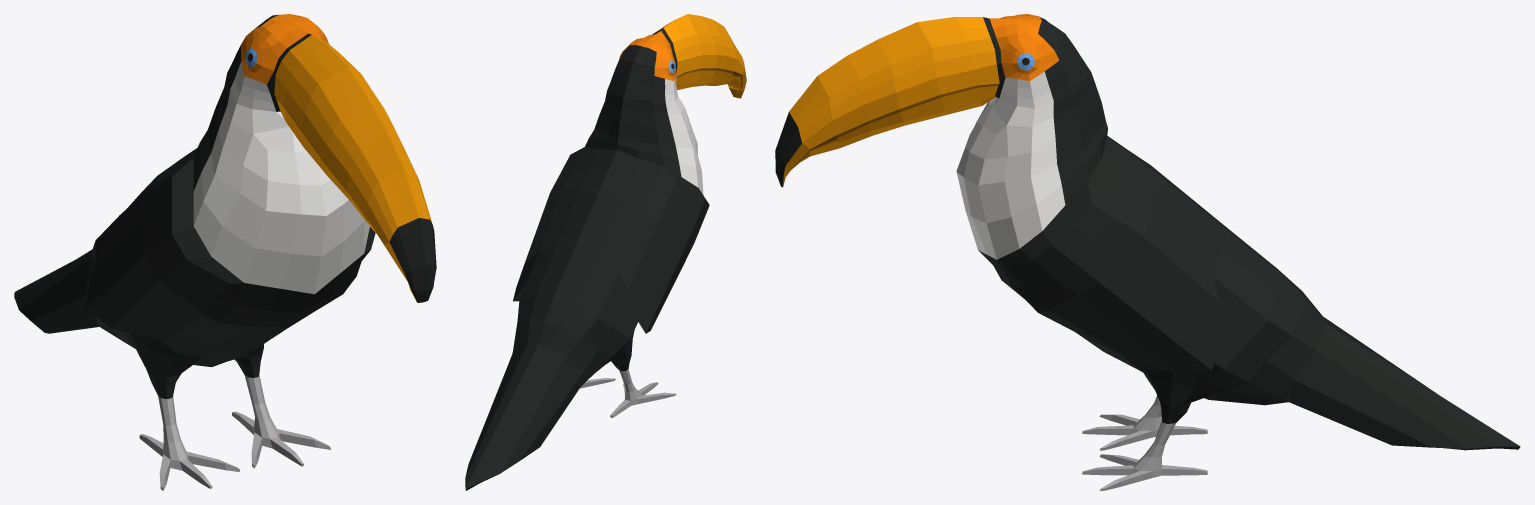
The model's file is bird.gltf.
3 renders of one model, left to right at view 1: azimuth 30°, elevation 25°; view 2: azimuth 150°, elevation 25°; view 3: azimuth 270°, elevation 25°, orthographic. The views are drawn at different scales.
Visible parts, largest first — view 1: Toucan; view 2: Toucan; view 3: Toucan.
Boxes of the visible parts, box(x1,y1,x2,y2) form: Toucan: box(14, 14, 436, 490); Toucan: box(465, 14, 746, 490); Toucan: box(775, 14, 1520, 490).
Size of the model in its own units: 0.1843 by 0.4121 by 0.6372.
